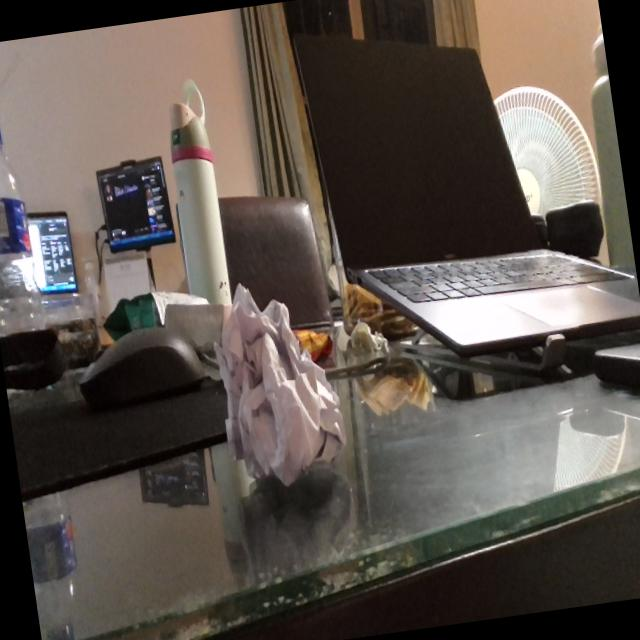crumpled_paper: (204, 264, 356, 500)
